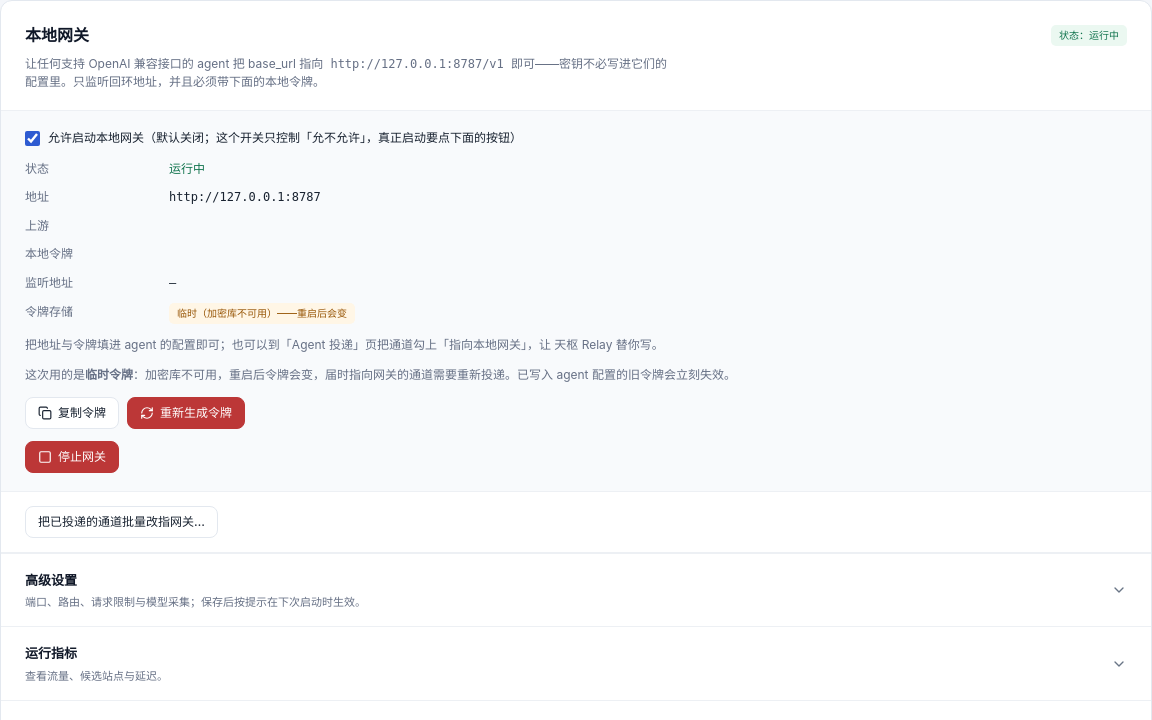
Test: 网关批量改指与状态真实性 › Codex 双文件批量预览同时展示 auth 与 config，而不是只显示入口文件
Step 1. Click the button "把已投递的通道批量改指网关…" → (121, 522), box x1=25 y1=506 x2=218 y2=538
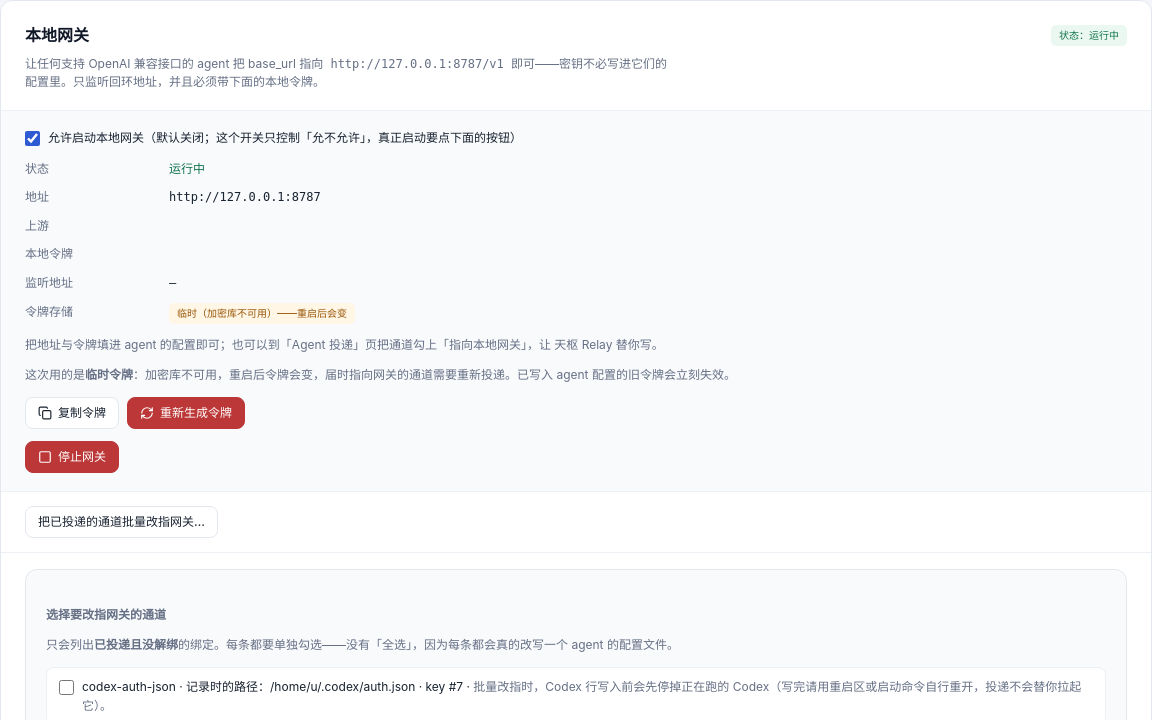
Step 2. Click the checkbox labelled "codex" → (66, 687), box x1=59 y1=680 x2=74 y2=695
(page scrolled)
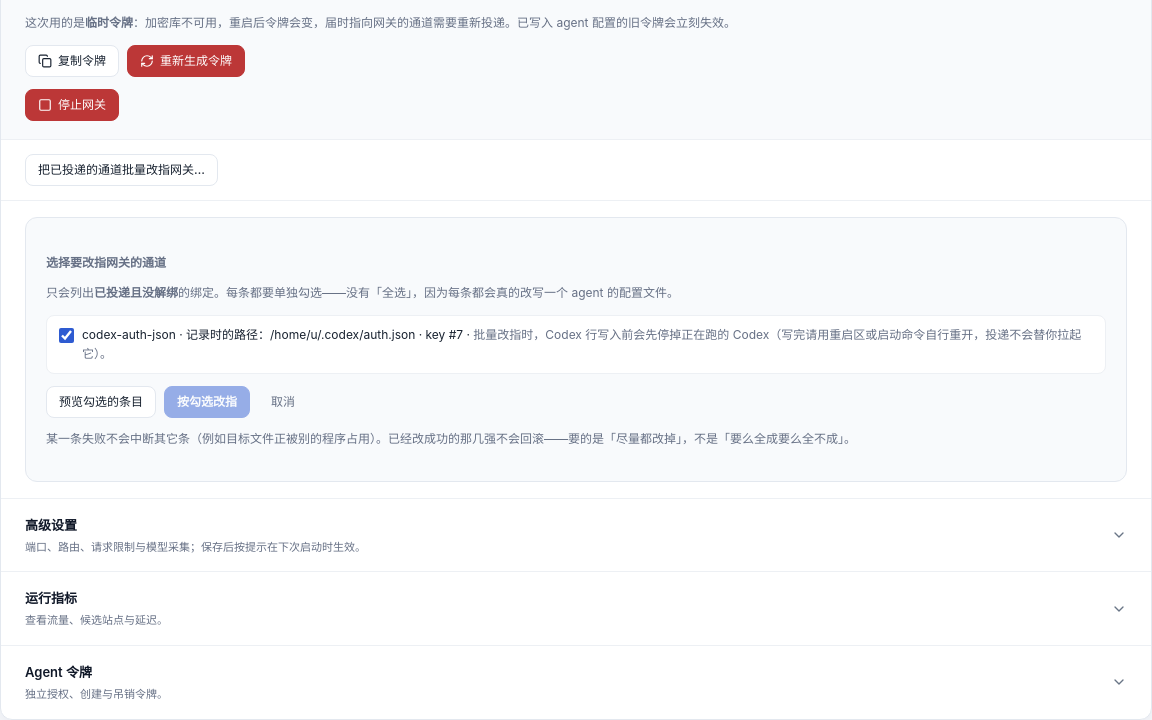
Step 3. Click the button "预览勾选的条目" → (101, 402), box x1=46 y1=386 x2=156 y2=418
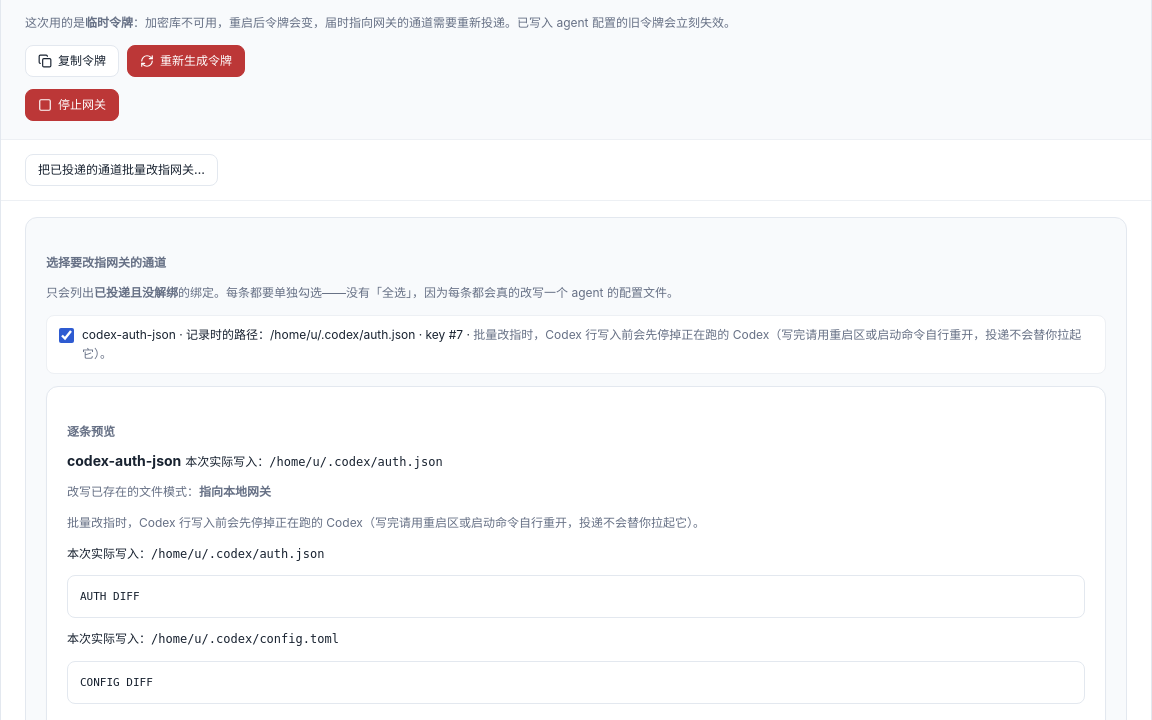
Result: the text "CONFIG DIFF" is shown at x1=67 y1=661 x2=1085 y2=704
Result: the text "AUTH DIFF" is shown at x1=67 y1=575 x2=1085 y2=618
Result: the text "/home/u/.codex/config.toml" is shown at x1=151 y1=632 x2=339 y2=646
